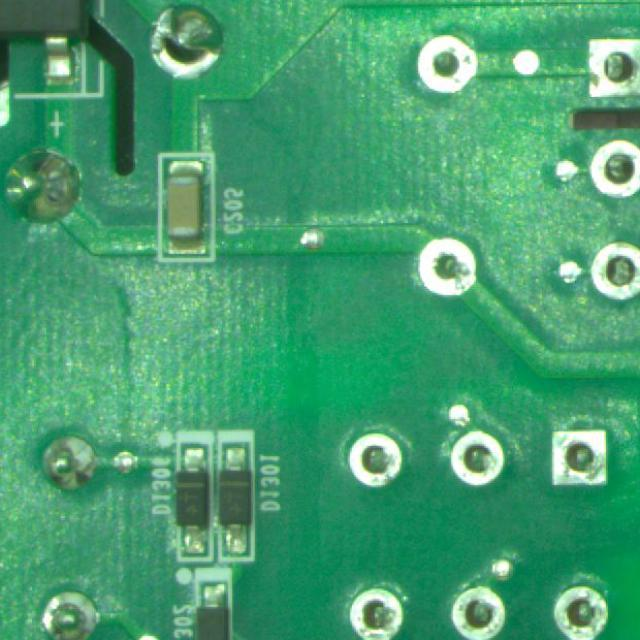Insufficient solder: (144, 0, 232, 88), (545, 423, 614, 497), (341, 428, 416, 496), (408, 238, 484, 304), (416, 32, 485, 97), (446, 424, 513, 490), (543, 580, 611, 640), (444, 583, 509, 640), (584, 37, 640, 102), (344, 582, 406, 640), (585, 240, 640, 304), (586, 140, 640, 200)
